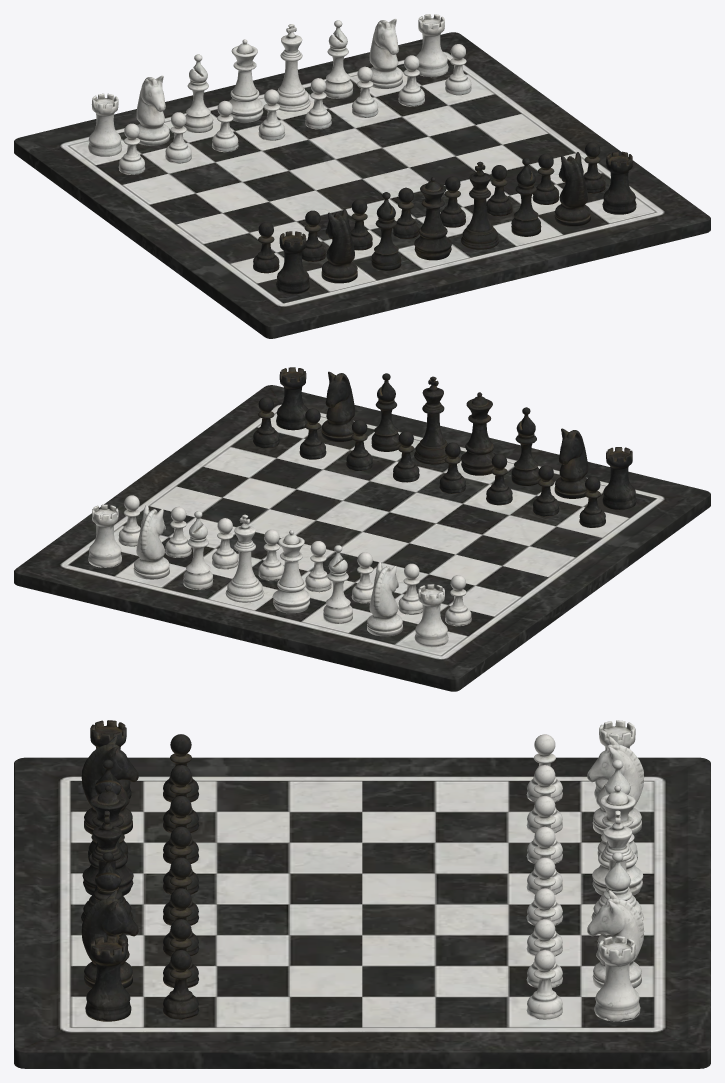
Rendered from chess_set.glb.
3 views of the same model, one above another, from view 1: azimuth 30°, elevation 25°; view 2: azimuth 150°, elevation 25°; view 3: azimuth 270°, elevation 25° (orthographic). The views are drawn at different scales.
Parts seen in each view (by area): view 1: chess_set; view 2: chess_set; view 3: chess_set.
Part boxes in pixels (x1=…): chess_set: x1=14, y1=14, x2=710, y2=338; chess_set: x1=14, y1=367, x2=710, y2=691; chess_set: x1=14, y1=720, x2=710, y2=1068.
Bounding box in the file's own units: 0.5532 × 0.1123 × 0.5532.
Materials: 3 (3 with a texture image).
